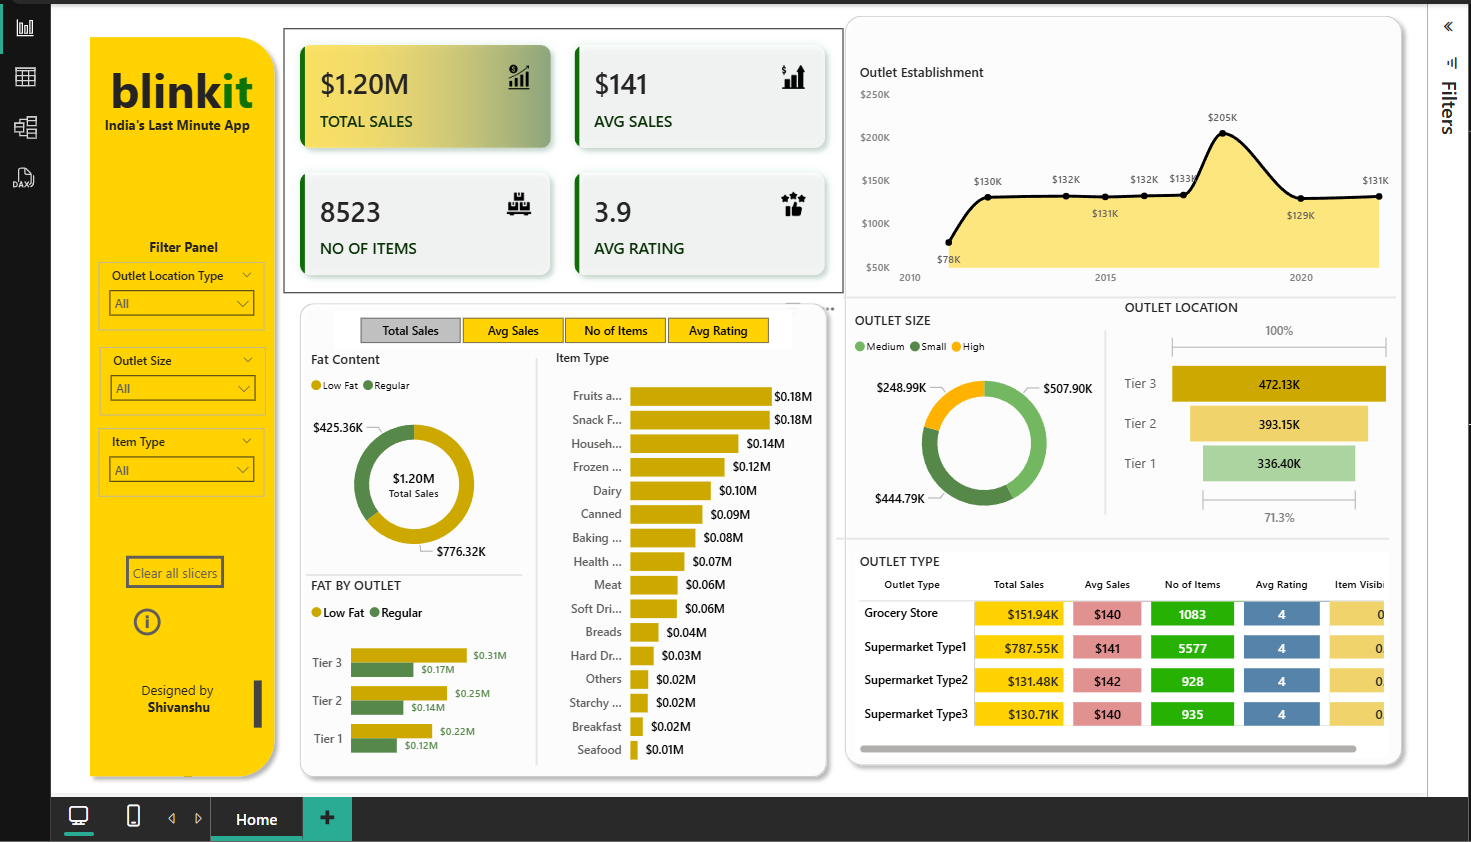

This screenshot's page, from the dashboard's own definition file:
{"tool":"powerbi","page":{"name":"Home","canvas":[1400,800],"ordinal":0},"visuals":[{"type":"shape","box":[30.5,21.6,206,770.7],"z":0},{"type":"textbox","box":[48.3,45.8,169.2,75],"z":1000},{"type":"textbox","box":[39.4,105.6,178.1,29.3],"z":2000},{"type":"cardVisual","fields":{"Data":["BlinkIT Grocery Data.Total Sales","BlinkIT Grocery Data.Avg Sales","BlinkIT Grocery Data.No of Items","BlinkIT Grocery Data.Avg Rating"]},"box":[236.6,21.6,569.8,269.6],"z":3000},{"type":"shape","box":[244,292,554,500],"z":4000},{"type":"donutChart","title":"Fat Content","fields":{"Y":["BlinkIT Grocery Data.Total Sales"],"Category":["BlinkIT Grocery Data.Item Fat Content"]},"box":[259.4,348.5,220,230.2],"z":5000},{"type":"slicer","fields":{"Values":["Metrics.Metrics"]},"box":[288.7,309,465.5,39.4],"z":6000},{"type":"cardVisual","fields":{"Data":["BlinkIT Grocery Data.Total Sales"]},"box":[323,452.8,92.8,63.6],"z":7000},{"type":"clusteredBarChart","title":"FAT BY OUTLET","fields":{"Y":["BlinkIT Grocery Data.Total Sales"],"Category":["BlinkIT Grocery Data.Outlet Location Type"],"Series":["BlinkIT Grocery Data.Item Fat Content"]},"box":[259.4,578.7,209.8,202.2],"z":8000},{"type":"shape","box":[259.4,564.7,220,26.7],"z":9000},{"type":"shape","box":[479.5,357.4,29.3,414.6],"z":10000},{"type":"barChart","title":"Item Type","fields":{"Y":["BlinkIT Grocery Data.Total Sales"],"Category":["BlinkIT Grocery Data.Item Type"]},"box":[508.7,348.5,270.9,432.4],"z":11000},{"type":"shape","box":[798.7,0,585,780.9],"z":12000},{"type":"lineChart","title":"Outlet Establishment","fields":{"Category":["BlinkIT Grocery Data.Outlet Establishment Year"],"Y":["BlinkIT Grocery Data.Total Sales"]},"box":[817.8,57.2,550.7,235.3],"z":13000},{"type":"shape","box":[806.3,282.3,562.1,26.7],"z":14000},{"type":"donutChart","title":"OUTLET SIZE","fields":{"Y":["BlinkIT Grocery Data.Total Sales"],"Category":["BlinkIT Grocery Data.Outlet Size"]},"box":[812.7,309,274.7,225.1],"z":15000},{"type":"shape","box":[1058.1,329.4,29.3,187],"z":16000},{"type":"funnel","title":" OUTLET LOCATION","fields":{"Y":["Sum(BlinkIT Grocery Data.Sales)"],"Category":["BlinkIT Grocery Data.Outlet Location Type"]},"box":[1087.4,296.3,281.1,237.8],"z":17000},{"type":"shape","box":[798.7,527.8,562.1,26.7],"z":18001},{"type":"pivotTable","title":"OUTLET TYPE","fields":{"Rows":["BlinkIT Grocery Data.Outlet Type"],"Values":["BlinkIT Grocery Data.Total Sales","BlinkIT Grocery Data.Avg Sales","BlinkIT Grocery Data.No of Items","BlinkIT Grocery Data.Avg Rating","Avg(BlinkIT Grocery Data.Item Visibility)"]},"box":[817.8,554.5,543.1,209.8],"z":18002},{"type":"slicer","fields":{"Values":["BlinkIT Grocery Data.Outlet Location Type"]},"box":[48.3,259.4,169.2,69.9],"z":18003},{"type":"slicer","fields":{"Values":["BlinkIT Grocery Data.Outlet Size"]},"box":[49.6,345.9,169.2,69.9],"z":18004},{"type":"slicer","fields":{"Values":["BlinkIT Grocery Data.Item Type"]},"box":[48.3,428.6,169.2,69.9],"z":18005},{"type":"textbox","box":[45.8,230.2,178.1,29.3],"z":18006},{"type":"actionButton","title":"R","box":[76.2,558.2,99.8,32.8],"z":18007},{"type":"actionButton","box":[76.2,604.1,99.8,43.3],"z":18008},{"type":"textbox","box":[49.9,680.3,169.4,60.4],"z":18009}]}

Visuals, with their boxes on the page's 1400x800 design canvas (x1, y1, x2, y2). These are canvas units, not pixel positions in the 1471x842 screenshot, which may show the page scaled, cropped or inside an application window:
shape: (30,22,236,792)
textbox: (48,46,218,121)
textbox: (39,106,218,135)
cardVisual - BlinkIT Grocery Data.Total Sales x BlinkIT Grocery Data.Avg Sales: (237,22,806,291)
shape: (244,292,798,792)
"Fat Content" donutChart: (259,348,479,579)
slicer - Metrics.Metrics: (289,309,754,348)
cardVisual - BlinkIT Grocery Data.Total Sales: (323,453,416,516)
"FAT BY OUTLET" clusteredBarChart: (259,579,469,781)
shape: (259,565,479,591)
shape: (480,357,509,772)
"Item Type" barChart: (509,348,780,781)
shape: (799,0,1384,781)
"Outlet Establishment" lineChart: (818,57,1368,292)
shape: (806,282,1368,309)
"OUTLET SIZE" donutChart: (813,309,1087,534)
shape: (1058,329,1087,516)
" OUTLET LOCATION" funnel: (1087,296,1368,534)
shape: (799,528,1361,554)
"OUTLET TYPE" pivotTable: (818,554,1361,764)
slicer - BlinkIT Grocery Data.Outlet Location Type: (48,259,218,329)
slicer - BlinkIT Grocery Data.Outlet Size: (50,346,219,416)
slicer - BlinkIT Grocery Data.Item Type: (48,429,218,498)
textbox: (46,230,224,260)
"R" actionButton: (76,558,176,591)
actionButton: (76,604,176,647)
textbox: (50,680,219,741)
